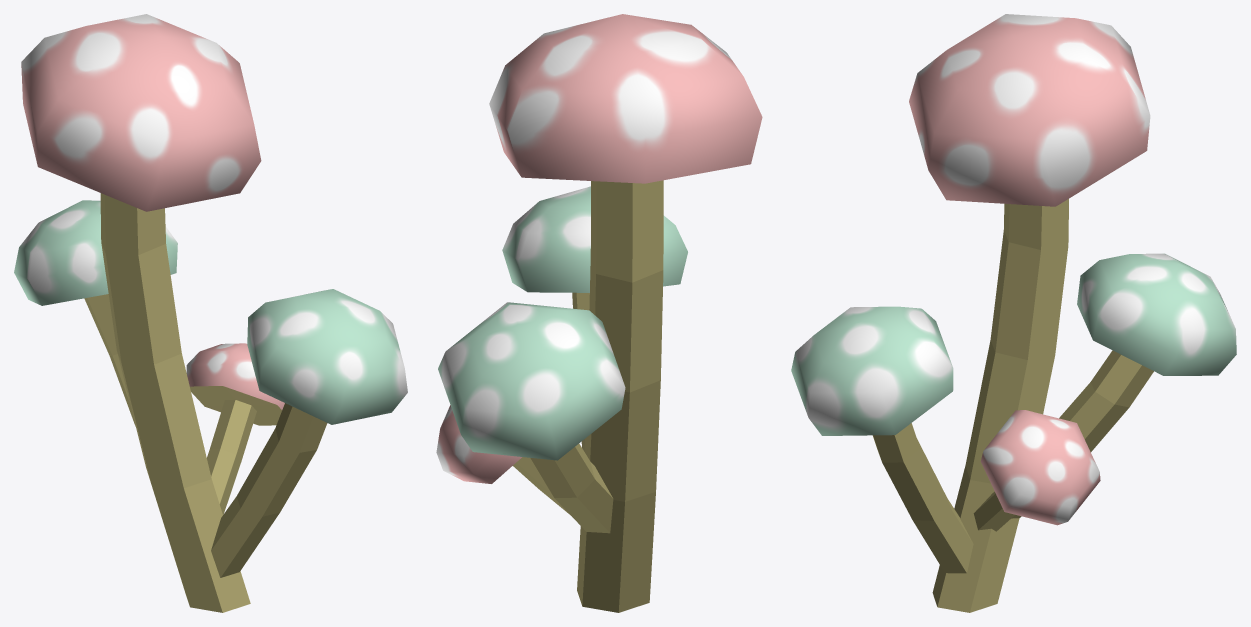
Rendered from Hongo_2.fbx.
3 views of the same model, side by side, from view 1: azimuth 30°, elevation 25°; view 2: azimuth 150°, elevation 25°; view 3: azimuth 270°, elevation 25° (orthographic). The views are drawn at different scales.
Parts seen in each view (by area): view 1: Hongo_2; view 2: Hongo_2; view 3: Hongo_2.
Part boxes in pixels (x1,y1,x2,y2): Hongo_2: [14, 14, 407, 612]; Hongo_2: [436, 14, 762, 612]; Hongo_2: [791, 14, 1236, 612].
Bounding box in the file's own units: 44.88 × 59.2 × 79.98.
